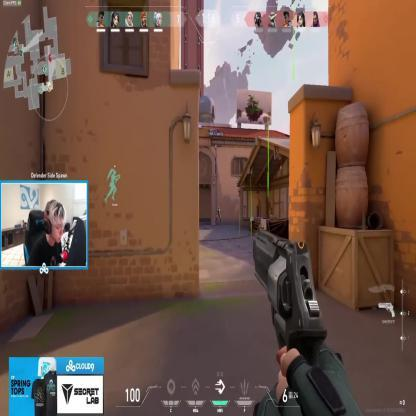enemy: (216, 204, 221, 226)
enemy_head: (218, 205, 219, 209)
